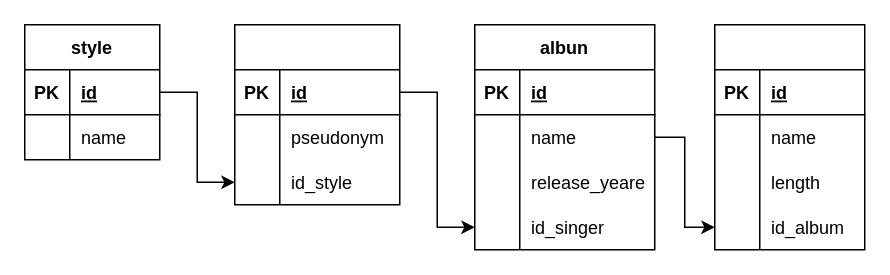
This 890x275 diagram has some shape labels left out. The box of each missing label's shape, as (x1, y1, x2, y2) in pixels:
singer: (233, 23, 400, 205)
track: (713, 23, 865, 250)
